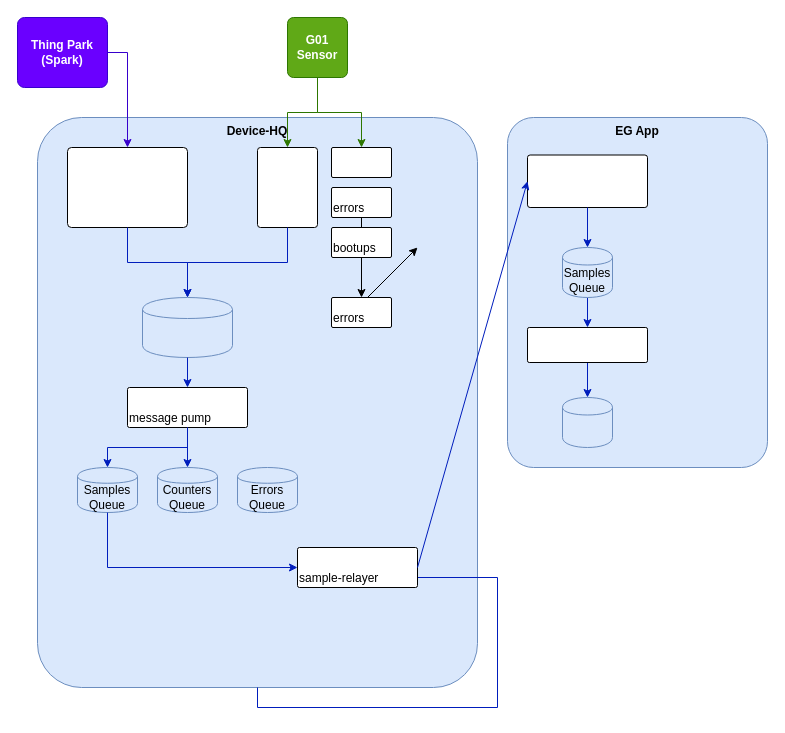
Image size: 785x733. Some labels were removed from this diagram. The shapes that lost their labels are listed below. From the top down, each one's centre as x and y in pixels, then its label:
At (x=361, y=162): "counters".
At (x=587, y=181): "sample receiver".
At (x=127, y=187): "lora-receiver".
At (x=287, y=187): "catm1-receiver".
At (x=187, y=327): "Event Hub".
At (x=587, y=344): "point-inserter".
At (x=587, y=422): "Points".
